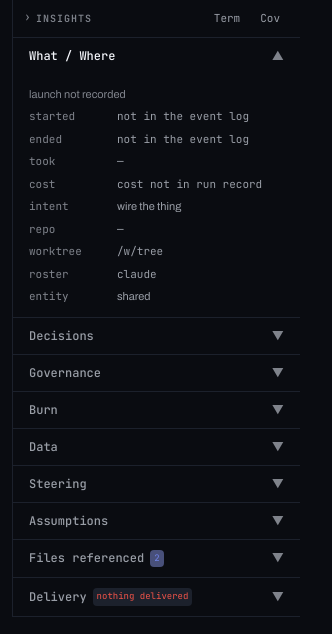
EC60: the Files panel stops presenting attention as outcome › is labelled "Files referenced" and captions what it actually counts
This screenshot has width=332, height=634.
What coordinates should you click on to do the following:
click the button "Files referenced 2 ▼"
I would click on:
 (156, 558)
Its box is x1=13 y1=540 x2=300 y2=577.
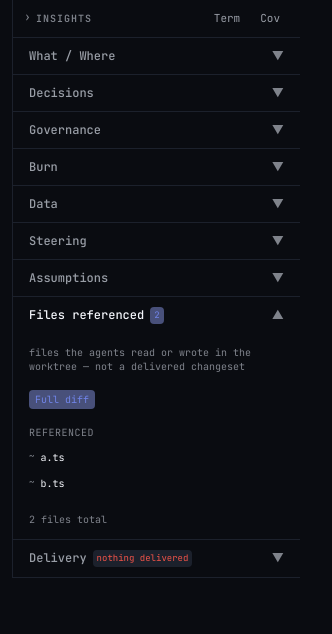
Now the text with test id "files-scope-note" reads "files the agents read or wrote in the worktree — not a delivered changeset", box x1=29 y1=346 x2=251 y2=373
